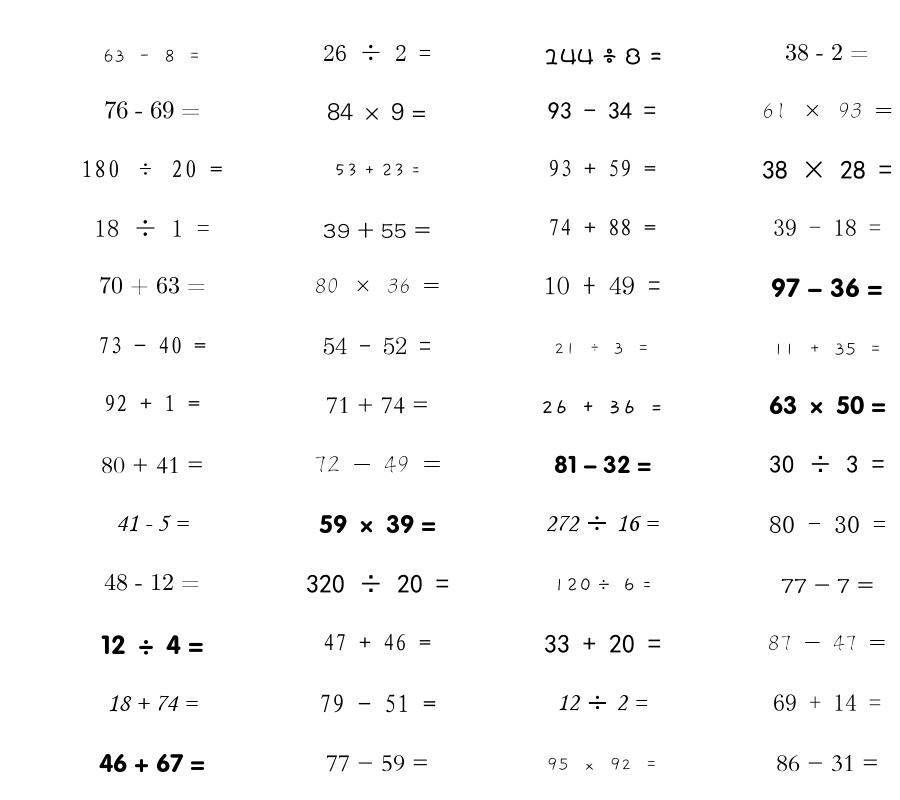MQ: (306, 574, 449, 594), (81, 160, 223, 178), (762, 160, 892, 179), (769, 395, 886, 415), (319, 514, 436, 534), (544, 634, 661, 654), (314, 455, 441, 473), (771, 278, 883, 298), (762, 102, 893, 119), (544, 276, 661, 295), (319, 694, 436, 713), (769, 455, 885, 474), (99, 753, 205, 773), (94, 219, 210, 237), (101, 635, 204, 655), (99, 276, 206, 295), (543, 48, 662, 65), (769, 516, 886, 533), (548, 159, 656, 177), (548, 218, 656, 236), (98, 336, 206, 354), (323, 337, 431, 355), (323, 633, 431, 651), (545, 515, 659, 532), (768, 635, 886, 651), (315, 278, 440, 293), (554, 455, 651, 474), (323, 44, 431, 61), (548, 102, 656, 119), (323, 222, 431, 239), (773, 219, 881, 236), (773, 694, 881, 711), (327, 103, 427, 121), (326, 397, 429, 414), (101, 457, 204, 474), (326, 755, 429, 772), (776, 755, 879, 772), (104, 101, 200, 119), (104, 394, 200, 412), (104, 573, 200, 591), (541, 400, 663, 414), (547, 757, 658, 771), (107, 695, 198, 712), (557, 694, 648, 711), (773, 342, 882, 356), (785, 43, 869, 61), (781, 578, 874, 593), (553, 578, 652, 592), (103, 49, 201, 63), (116, 515, 189, 532), (334, 163, 421, 177), (554, 343, 650, 355)
